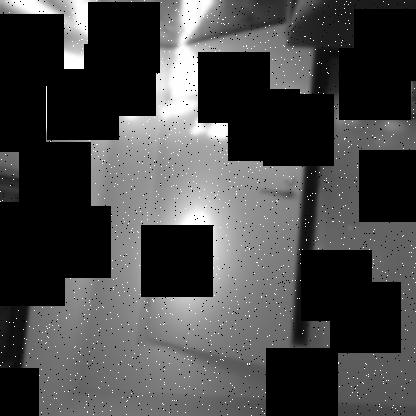Porte: (132, 19, 345, 373)
